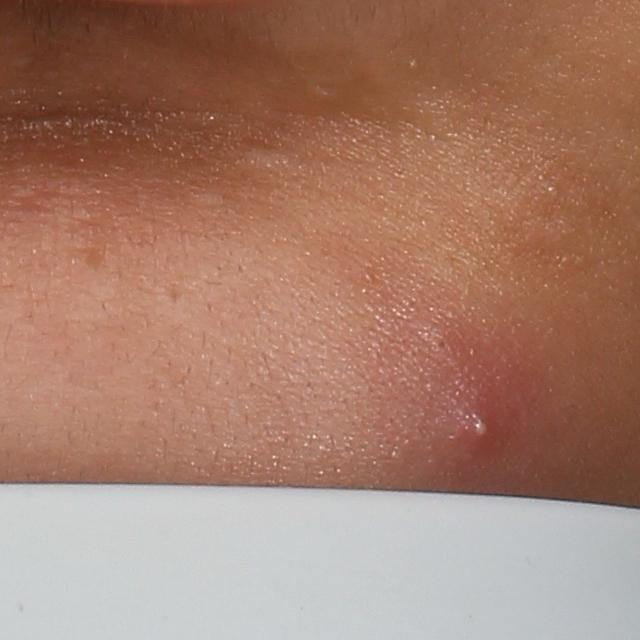atrophic_scar: (165, 280, 181, 306)
pustule: (460, 406, 502, 450)
